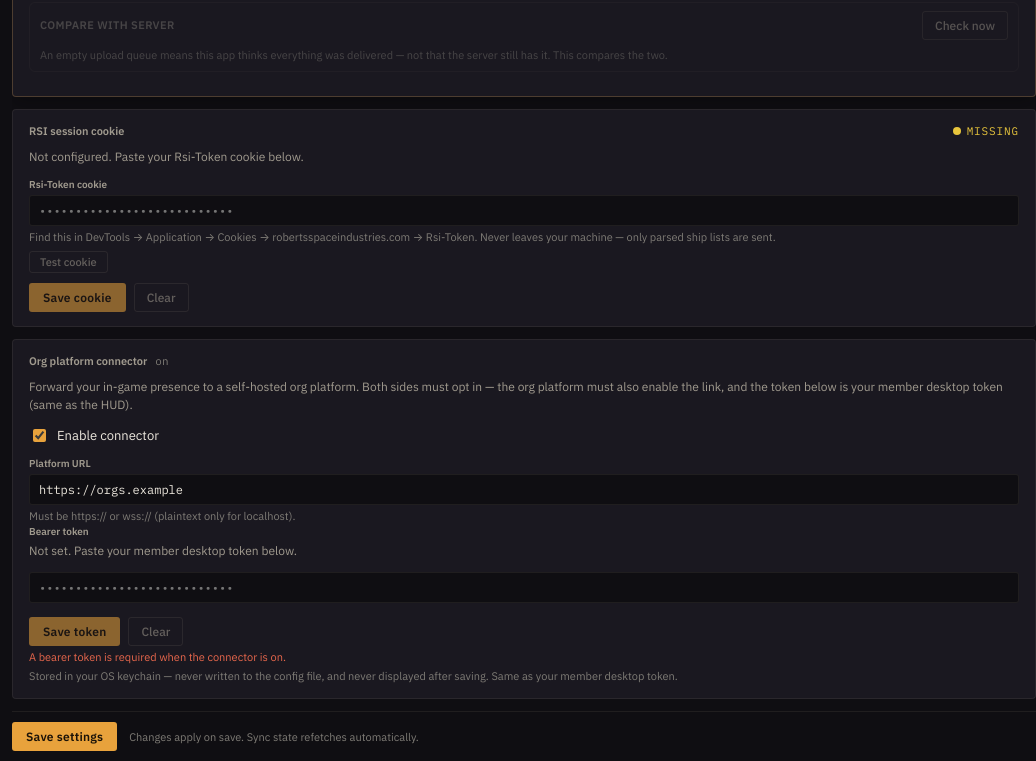
Scenario: SettingsPane org platform connector card › requires a bearer token while the connector is enabled, and clears once one is saved
The image size is (1036, 761).
(page scrolled)
Expected: the text "A bearer token is required when the connector is on." is shown, 29,650 -> 286,664
Type "desk-token" into the password field named "org connector bearer token" at coordinates (524, 587), box 29,572 -> 1019,603
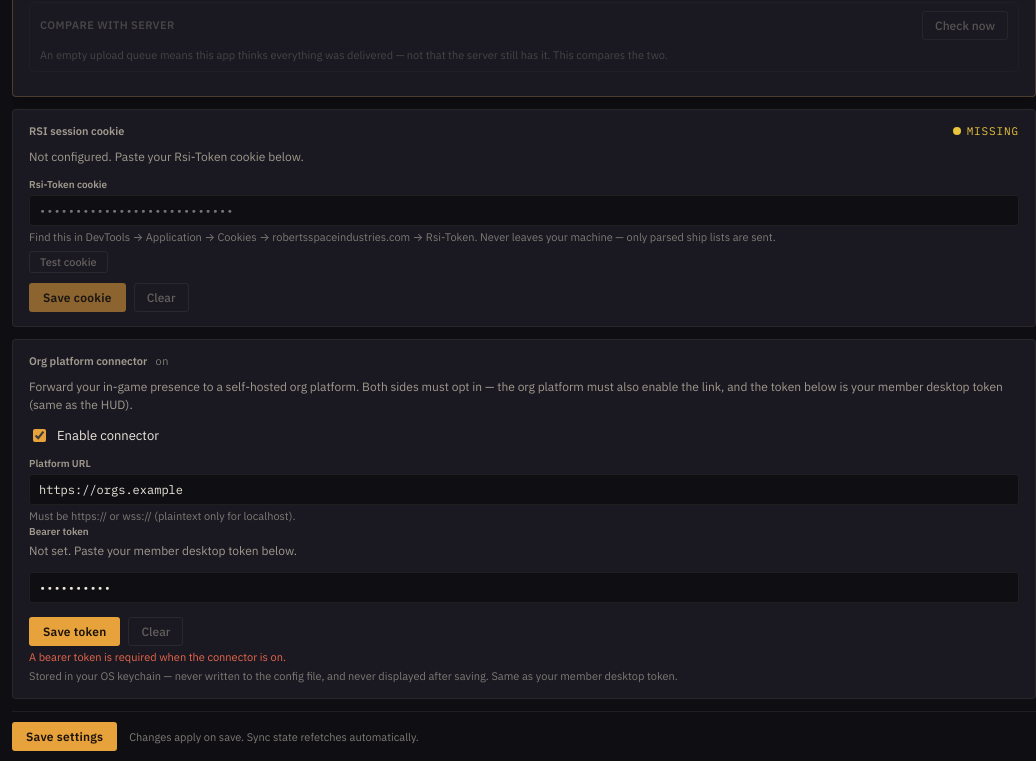
Click the button "Save token" at coordinates (75, 631), box 29,617 -> 120,646
(page scrolled)
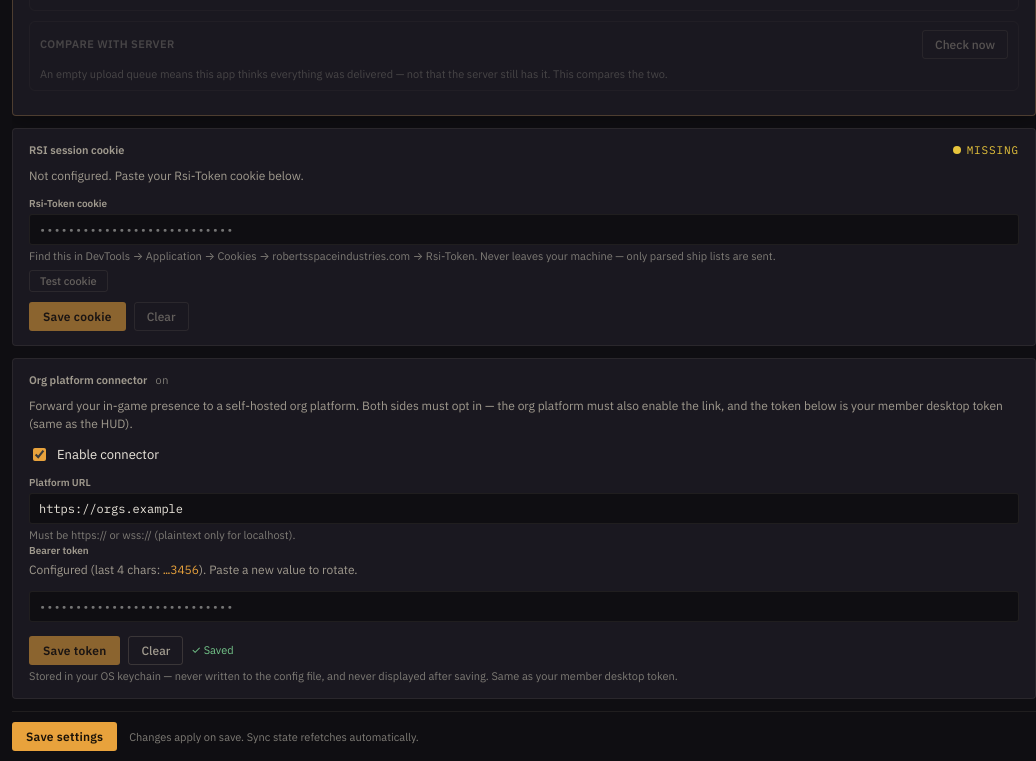
Result: the text "A bearer token is required" is gone
